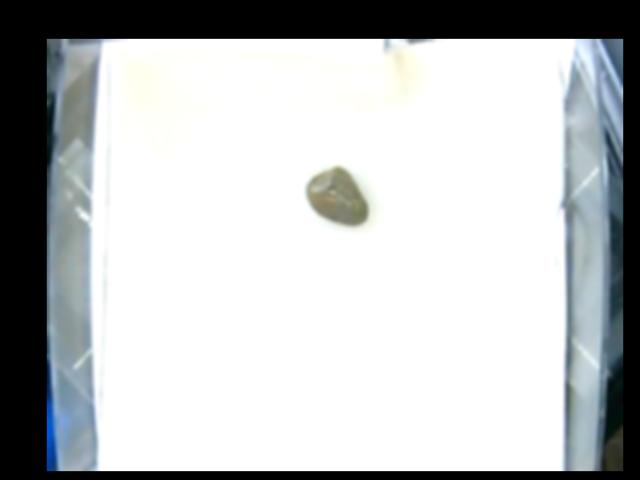Pebble: (305, 164, 370, 227)
